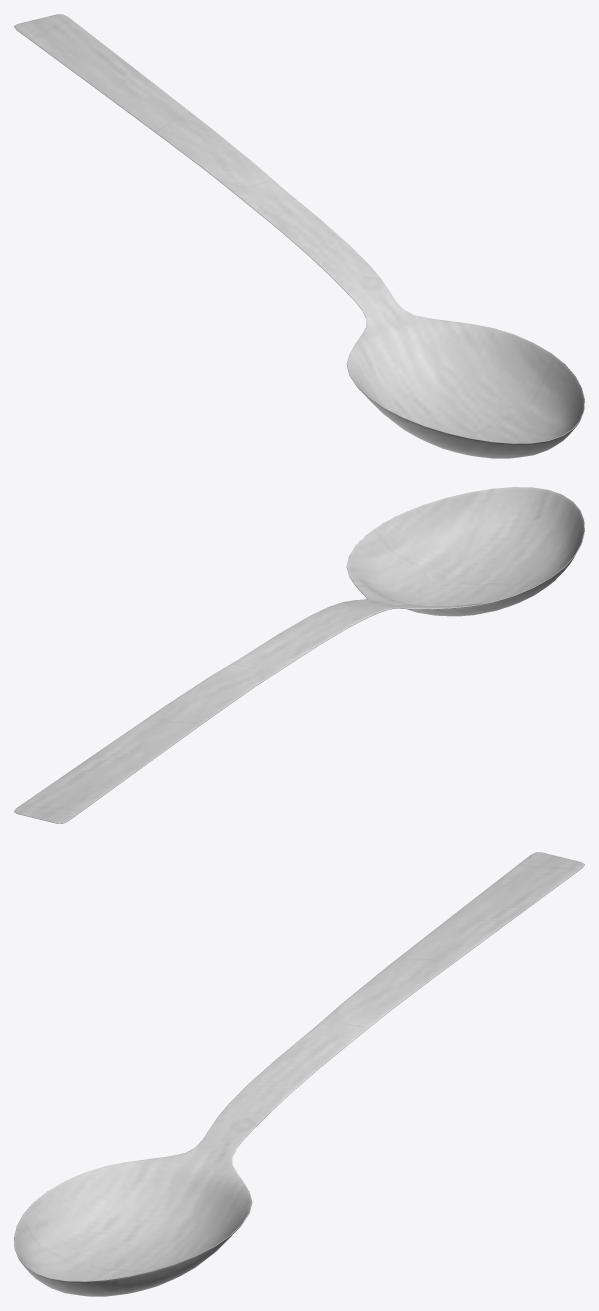
File: Spoon.fbx
3 renders of one model, top to bottom at view 1: azimuth 30°, elevation 25°; view 2: azimuth 150°, elevation 25°; view 3: azimuth 330°, elevation 25°, orthographic.
Parts seen in each view (by area): view 1: Spoon; view 2: Spoon; view 3: Spoon.
Boxes of the visible parts, bbox=[...] form: Spoon: bbox=[14, 14, 584, 458]; Spoon: bbox=[14, 487, 584, 823]; Spoon: bbox=[14, 852, 584, 1296].
Size of the model in its own units: 6.32 by 3.02 by 30.66.
1 material, 1 textured.
